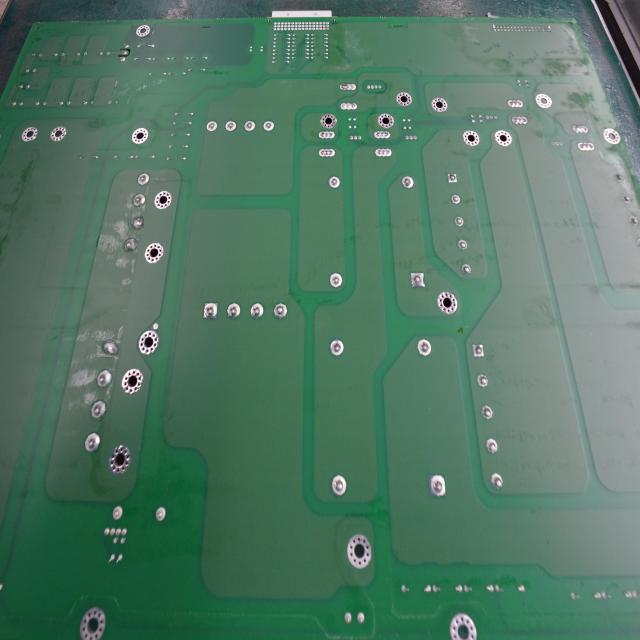slug: (99, 337, 120, 358), (128, 210, 144, 234), (123, 234, 139, 256)
